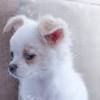Bulldog: (2, 10, 88, 100)
